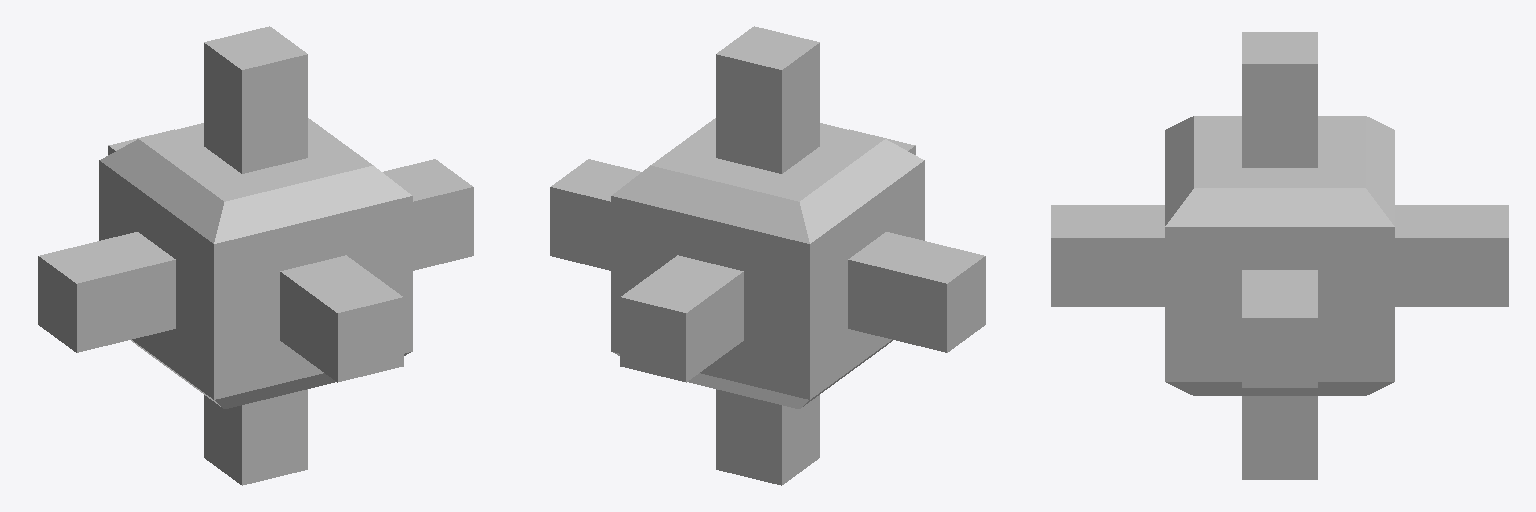
Rendered from demo.obj.
3 views of the same model, side by side, from view 1: azimuth 30°, elevation 25°; view 2: azimuth 150°, elevation 25°; view 3: azimuth 270°, elevation 25° (orthographic).
Parts seen in each view (by area): view 1: Cube; view 2: Cube; view 3: Cube.
Boxes of the visible parts, box(x1,y1,x2,y2) form: Cube: box(38, 26, 473, 485); Cube: box(550, 26, 985, 485); Cube: box(1051, 32, 1508, 479).
Bounding box in the file's own units: 4 × 4 × 4.